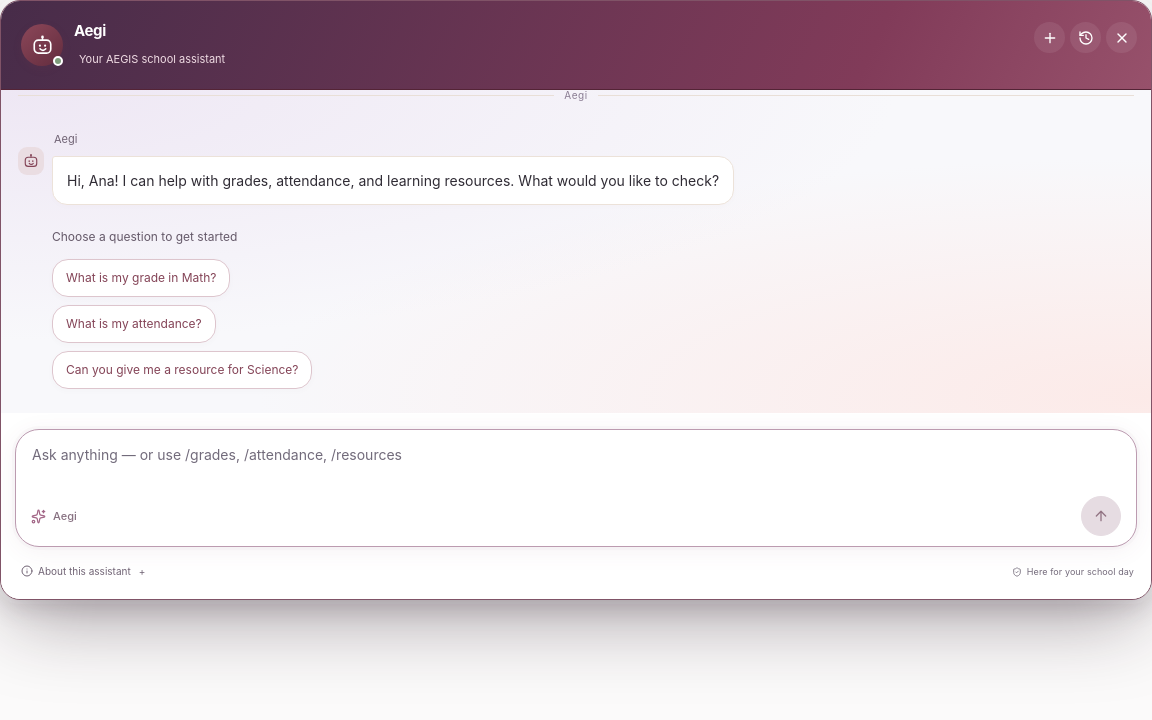
it: ChatbotPanel › keeps Shift+Enter for new lines and sends with Enter
(page scrolled)
In the text box named "Message": (576, 470) [31,444,1121,496], type "Hello"
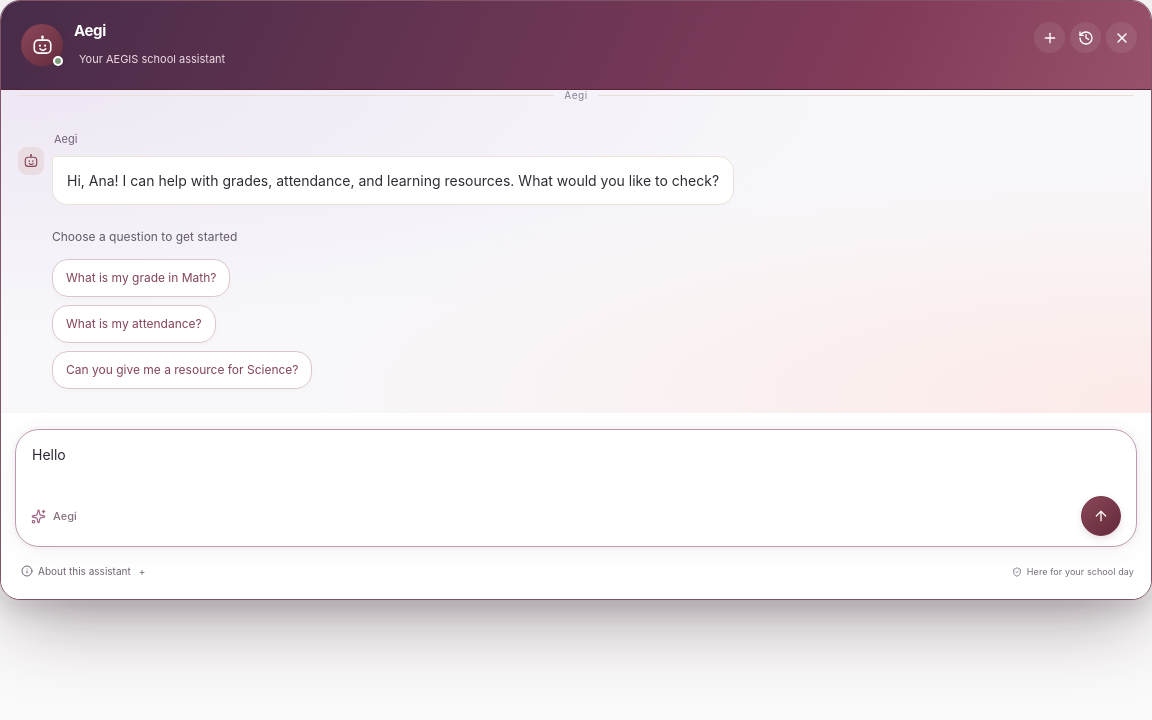
Press Enter in the text box named "Message", box [31,444,1121,496]
Press Enter in the text box named "Message", box [31,444,1121,496]
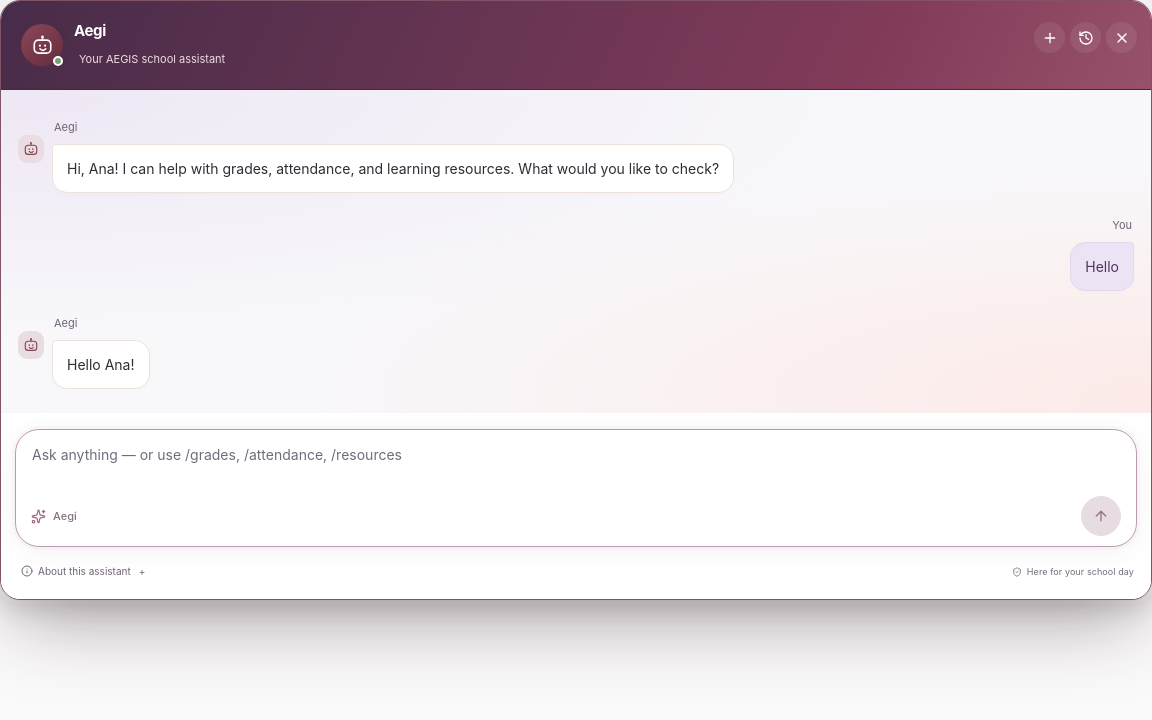
Now the text "Hello Ana!" is shown, box [67,353,134,376]
